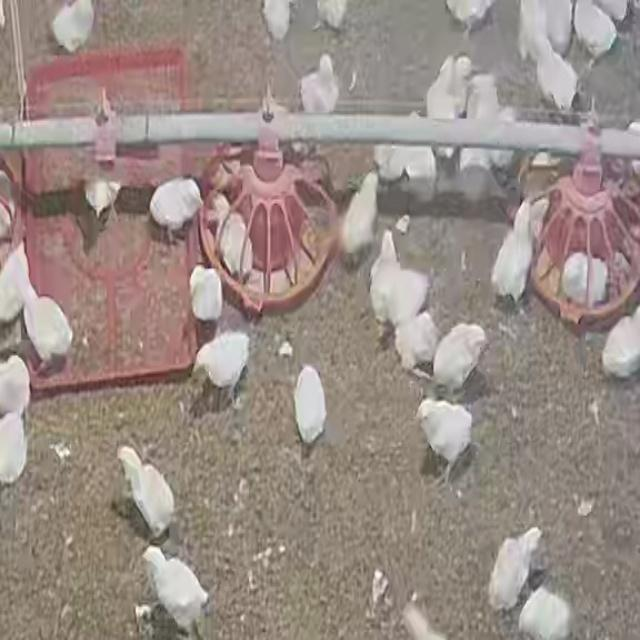chicken: (139, 542, 215, 639), (118, 447, 176, 542), (417, 398, 475, 483), (193, 330, 251, 412), (487, 527, 542, 613), (431, 321, 487, 396), (494, 197, 534, 301), (214, 195, 256, 279), (294, 50, 349, 114), (369, 228, 406, 322), (148, 177, 203, 240), (342, 170, 382, 254), (28, 296, 74, 369), (516, 583, 572, 640), (293, 365, 332, 446), (601, 299, 640, 379), (558, 249, 611, 306), (0, 243, 34, 327), (535, 48, 580, 111), (425, 54, 467, 121), (394, 309, 436, 369), (188, 264, 224, 326), (84, 179, 121, 223)
